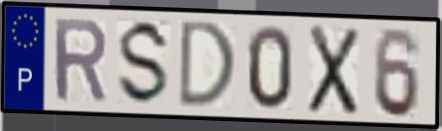0: (245, 22, 297, 114)
6: (370, 24, 423, 121)
D: (176, 18, 239, 111)
R: (50, 16, 110, 105)
S: (114, 17, 174, 109)
X: (305, 22, 363, 119)
